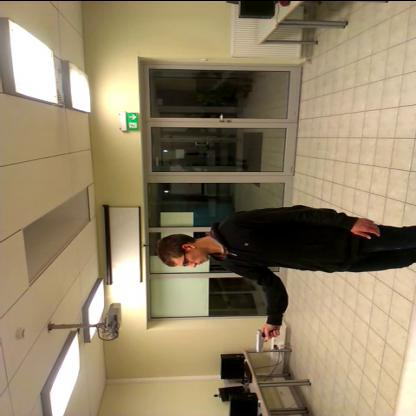Pistol: (247, 322, 290, 358)
